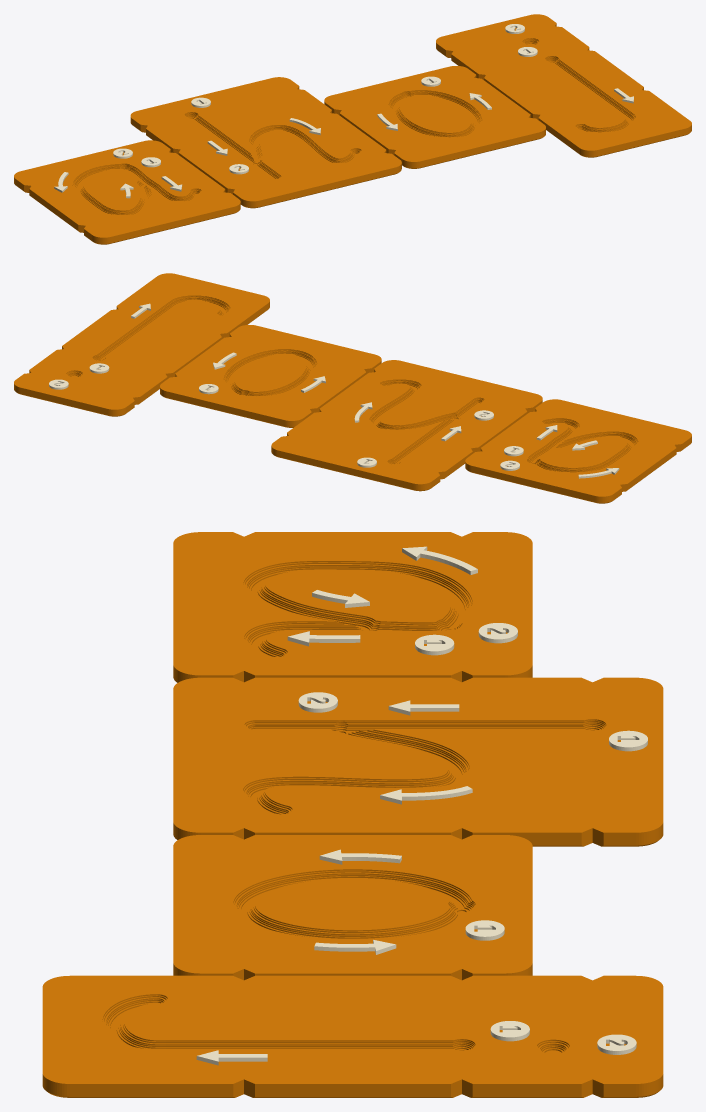
File: pismena.glb
The picture shows the model from 3 angles, top to bottom: view 1: azimuth 30°, elevation 25°; view 2: azimuth 150°, elevation 25°; view 3: azimuth 270°, elevation 25°; orthographic projection. The views are drawn at different scales.
Parts seen in each view (by area): view 1: Pismena_comenia_pismeno_h_podstava, Pismena_comenia_pismeno_j_podstava, Pismena_comenia_pismeno_a_podstava, Pismena_comenia_pismeno_o_podstava, Pismena_comenia_pismeno_a_sipky, Pismena_comenia_pismeno_h_sipky, Pismena_comenia_pismeno_j_sipky, Pismena_comenia_pismeno_o_sipky; view 2: Pismena_comenia_pismeno_h_podstava, Pismena_comenia_pismeno_j_podstava, Pismena_comenia_pismeno_a_podstava, Pismena_comenia_pismeno_o_podstava, Pismena_comenia_pismeno_a_sipky, Pismena_comenia_pismeno_h_sipky, Pismena_comenia_pismeno_j_sipky, Pismena_comenia_pismeno_o_sipky; view 3: Pismena_comenia_pismeno_h_podstava, Pismena_comenia_pismeno_j_podstava, Pismena_comenia_pismeno_a_podstava, Pismena_comenia_pismeno_o_podstava, Pismena_comenia_pismeno_a_sipky, Pismena_comenia_pismeno_h_sipky, Pismena_comenia_pismeno_o_sipky, Pismena_comenia_pismeno_j_sipky.
Boxes of the visible parts, bbox=[...] form: Pismena_comenia_pismeno_h_podstava: bbox=[130, 77, 401, 208]; Pismena_comenia_pismeno_j_podstava: bbox=[436, 14, 691, 157]; Pismena_comenia_pismeno_a_podstava: bbox=[14, 140, 240, 244]; Pismena_comenia_pismeno_o_podstava: bbox=[324, 66, 545, 168]; Pismena_comenia_pismeno_a_sipky: bbox=[54, 148, 182, 198]; Pismena_comenia_pismeno_h_sipky: bbox=[191, 97, 320, 174]; Pismena_comenia_pismeno_j_sipky: bbox=[505, 24, 633, 103]; Pismena_comenia_pismeno_o_sipky: bbox=[377, 76, 491, 130]; Pismena_comenia_pismeno_h_podstava: bbox=[271, 360, 542, 491]; Pismena_comenia_pismeno_j_podstava: bbox=[14, 273, 269, 416]; Pismena_comenia_pismeno_a_podstava: bbox=[465, 399, 691, 503]; Pismena_comenia_pismeno_o_podstava: bbox=[160, 325, 381, 427]; Pismena_comenia_pismeno_a_sipky: bbox=[500, 425, 619, 478]; Pismena_comenia_pismeno_h_sipky: bbox=[354, 402, 493, 467]; Pismena_comenia_pismeno_j_sipky: bbox=[49, 303, 150, 389]; Pismena_comenia_pismeno_o_sipky: bbox=[199, 352, 325, 394]; Pismena_comenia_pismeno_h_podstava: bbox=[173, 677, 663, 846]; Pismena_comenia_pismeno_j_podstava: bbox=[42, 975, 663, 1097]; Pismena_comenia_pismeno_a_podstava: bbox=[173, 532, 532, 682]; Pismena_comenia_pismeno_o_podstava: bbox=[173, 835, 532, 980]; Pismena_comenia_pismeno_a_sipky: bbox=[287, 546, 517, 655]; Pismena_comenia_pismeno_h_sipky: bbox=[298, 692, 647, 804]; Pismena_comenia_pismeno_o_sipky: bbox=[314, 849, 504, 954]; Pismena_comenia_pismeno_j_sipky: bbox=[196, 1021, 636, 1065].
Size of the model in its own units: 0.2398 by 0.0038 by 0.114.
